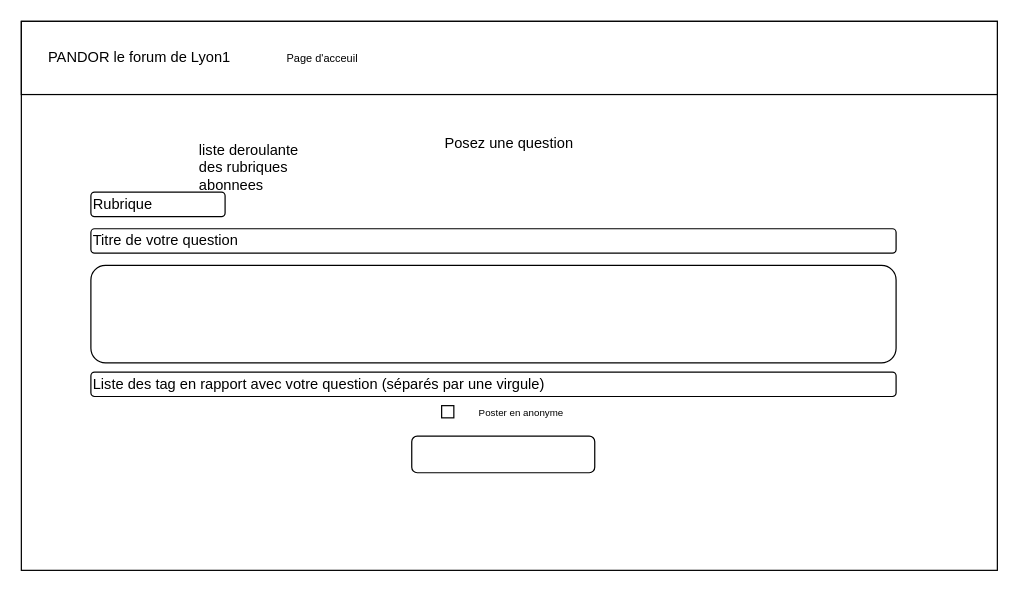
This 1019x592 diagram has some shape labels left out. The shapes that lost their labels are listed below. From the top down, each one's centre as x and y in pixels, then its label:
At (x=493, y=313): "Détaillez votre question ici".
At (x=503, y=454): "Poster la question".
